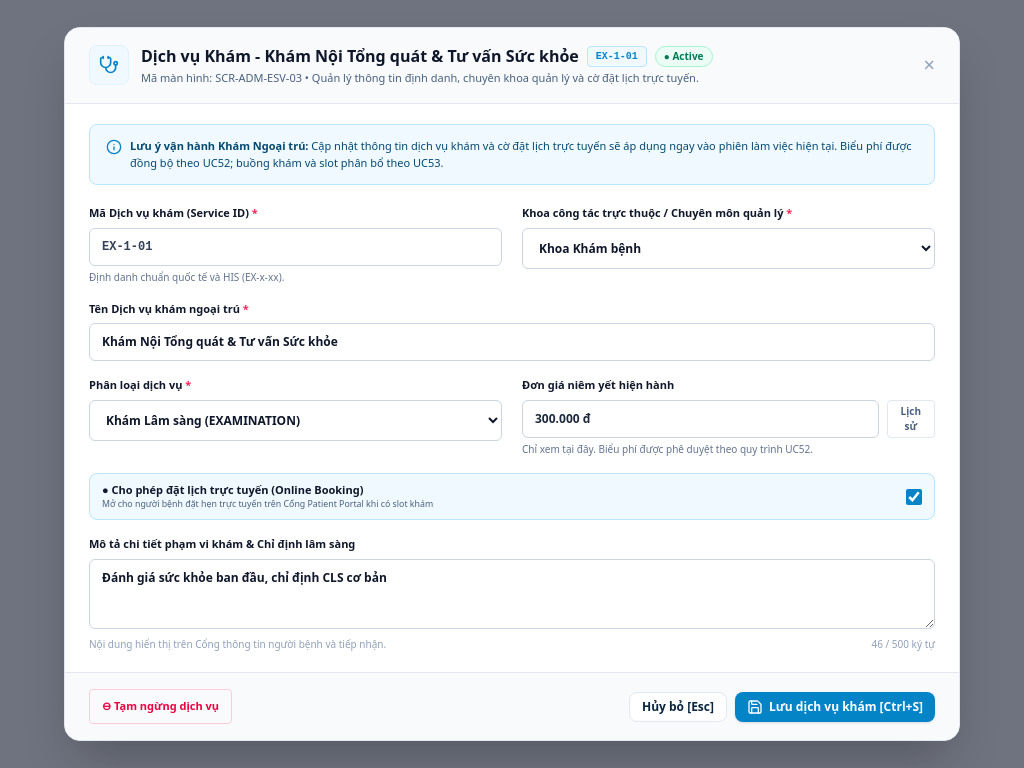
it: ServiceEditModal (SCR-ADM-ESV-03) › allows toggling service status from active to suspended via footer button
What coordinates should you click on to do the following:
click the button "⊖ Tạm ngừng dịch vụ"
I would click on:
 (160, 707)
Its box is [89,690,232,724].
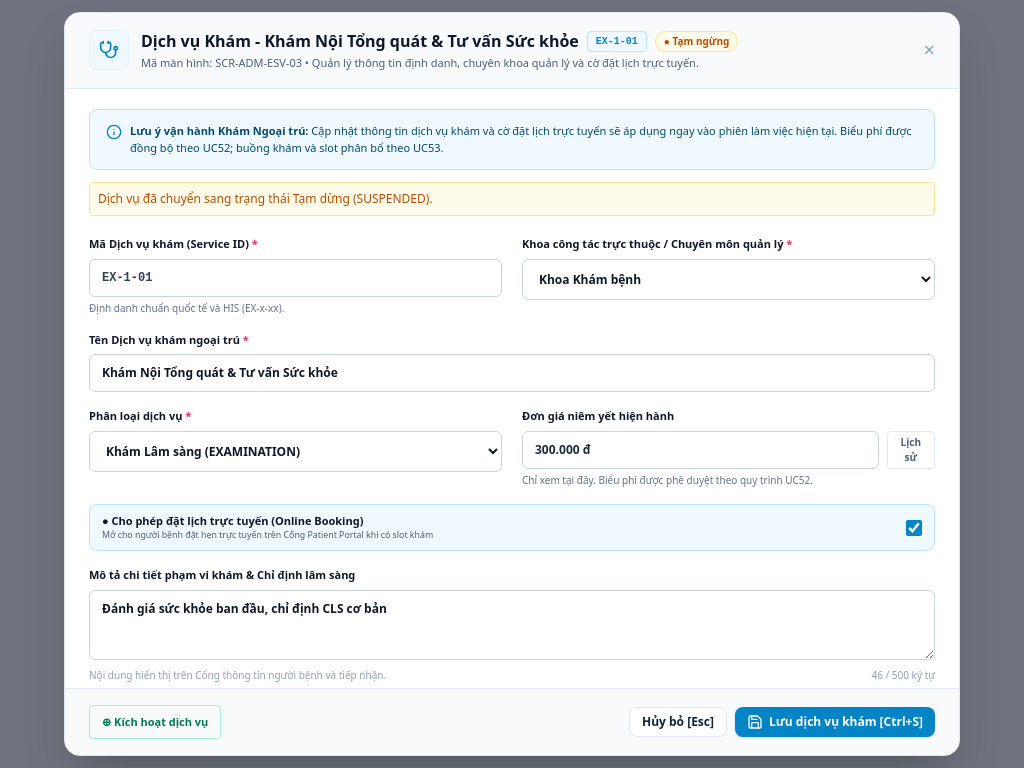
Expected: the text "Dịch vụ đã chuyển sang trạng thái Tạm dừng (SUSPENDED)." is shown, [89,182,935,216]
Expected: the button "⊕ Kích hoạt dịch vụ" is shown, [89,704,221,739]
